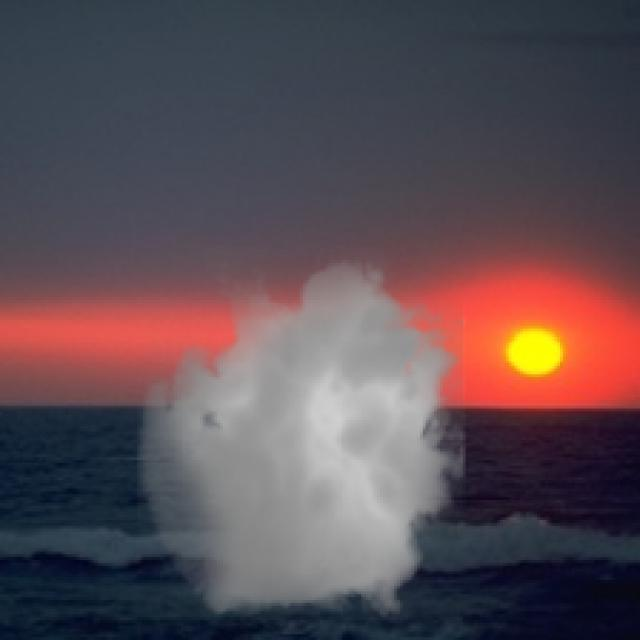Smoke: (126, 246, 480, 634)
